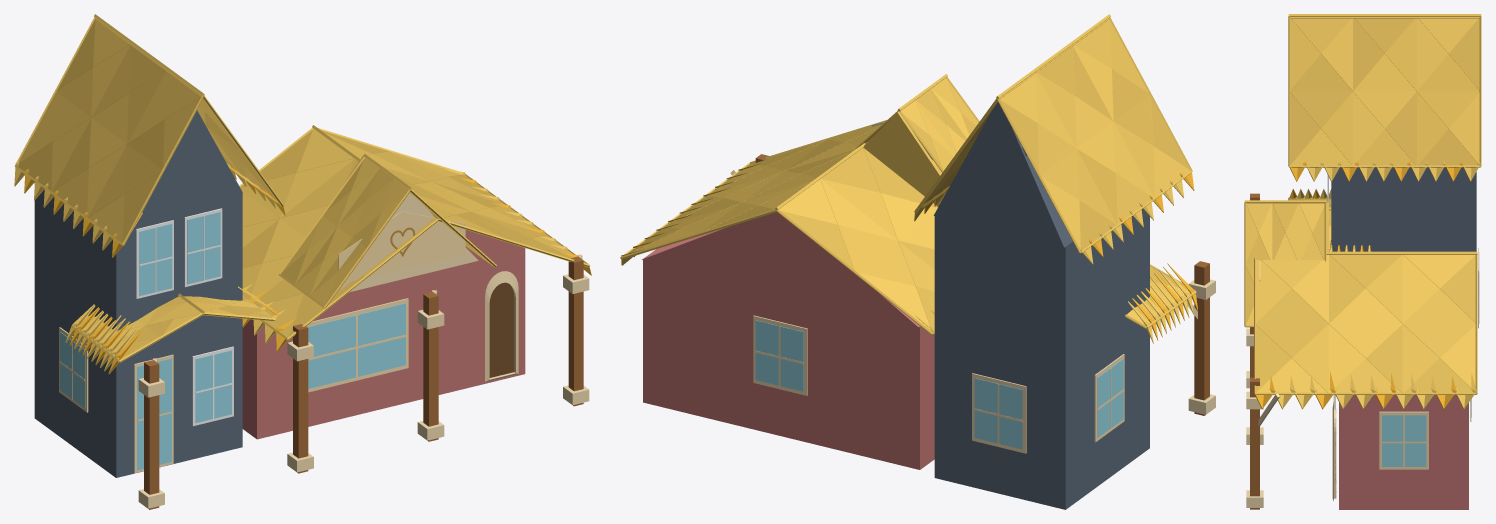
Rendered from building.glb.
The picture shows the model from 3 angles, left to right: view 1: azimuth 30°, elevation 25°; view 2: azimuth 150°, elevation 25°; view 3: azimuth 270°, elevation 25°; orthographic projection. The views are drawn at different scales.
Parts seen in each view (by area): view 1: 04_Station_TimberRoomsAndPorchPosts, 04_Station_LayeredThatchAndDormerSign; view 2: 04_Station_TimberRoomsAndPorchPosts, 04_Station_LayeredThatchAndDormerSign; view 3: 04_Station_LayeredThatchAndDormerSign, 04_Station_TimberRoomsAndPorchPosts.
Part boxes in pixels (box(x1,y1,x2,y2)): 04_Station_TimberRoomsAndPorchPosts: box(34, 110, 589, 509); 04_Station_LayeredThatchAndDormerSign: box(14, 14, 591, 374); 04_Station_TimberRoomsAndPorchPosts: box(642, 102, 1215, 509); 04_Station_LayeredThatchAndDormerSign: box(620, 14, 1197, 343); 04_Station_LayeredThatchAndDormerSign: box(1244, 14, 1481, 409); 04_Station_TimberRoomsAndPorchPosts: box(1246, 167, 1479, 509).
Bounding box in the file's own units: 1.05 × 0.836 × 0.5224.
